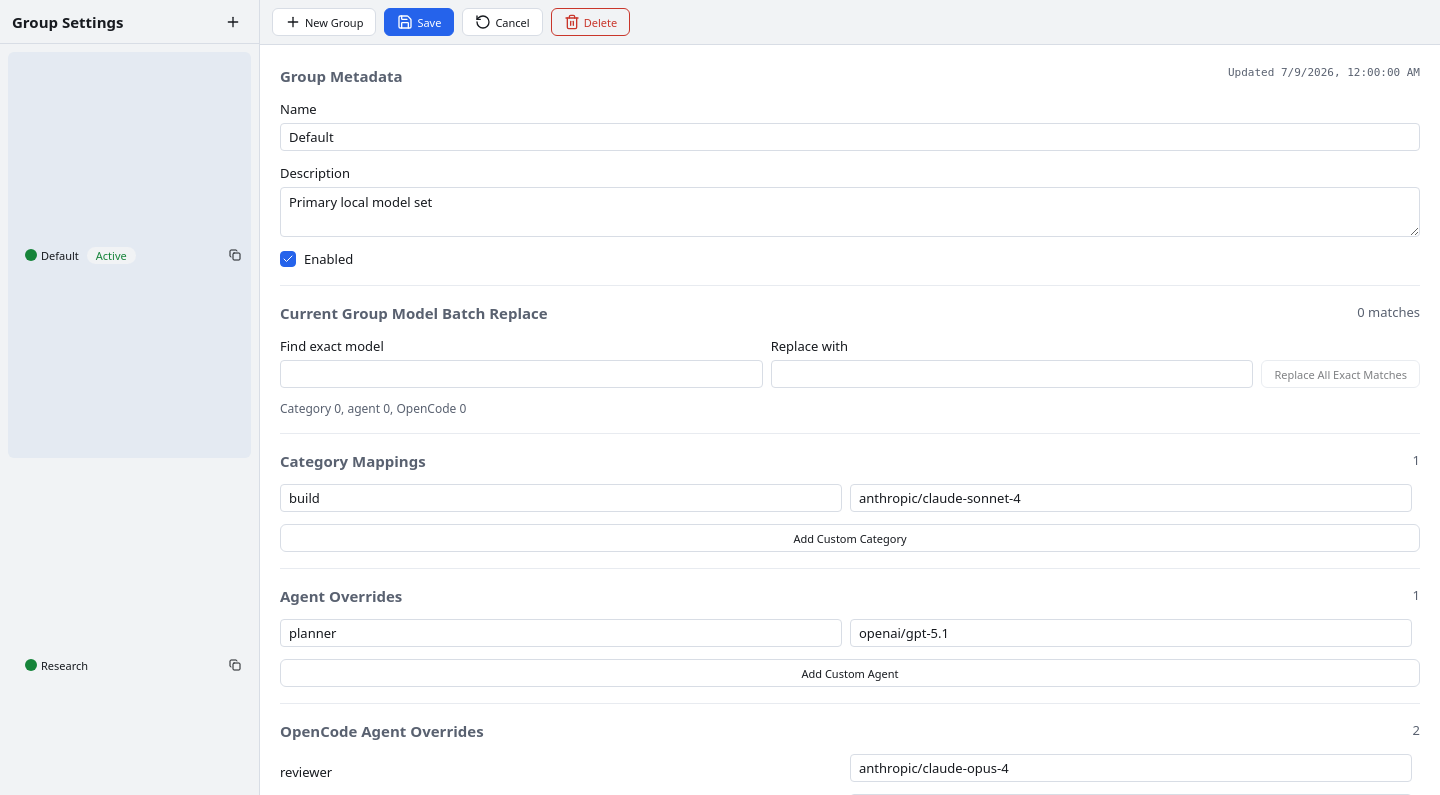
Test: SettingsShell › Given a new group When created Then it appears in the group list before persistence
Click the button named "New Group".
click(233, 22)  # box [219, 8, 247, 36]
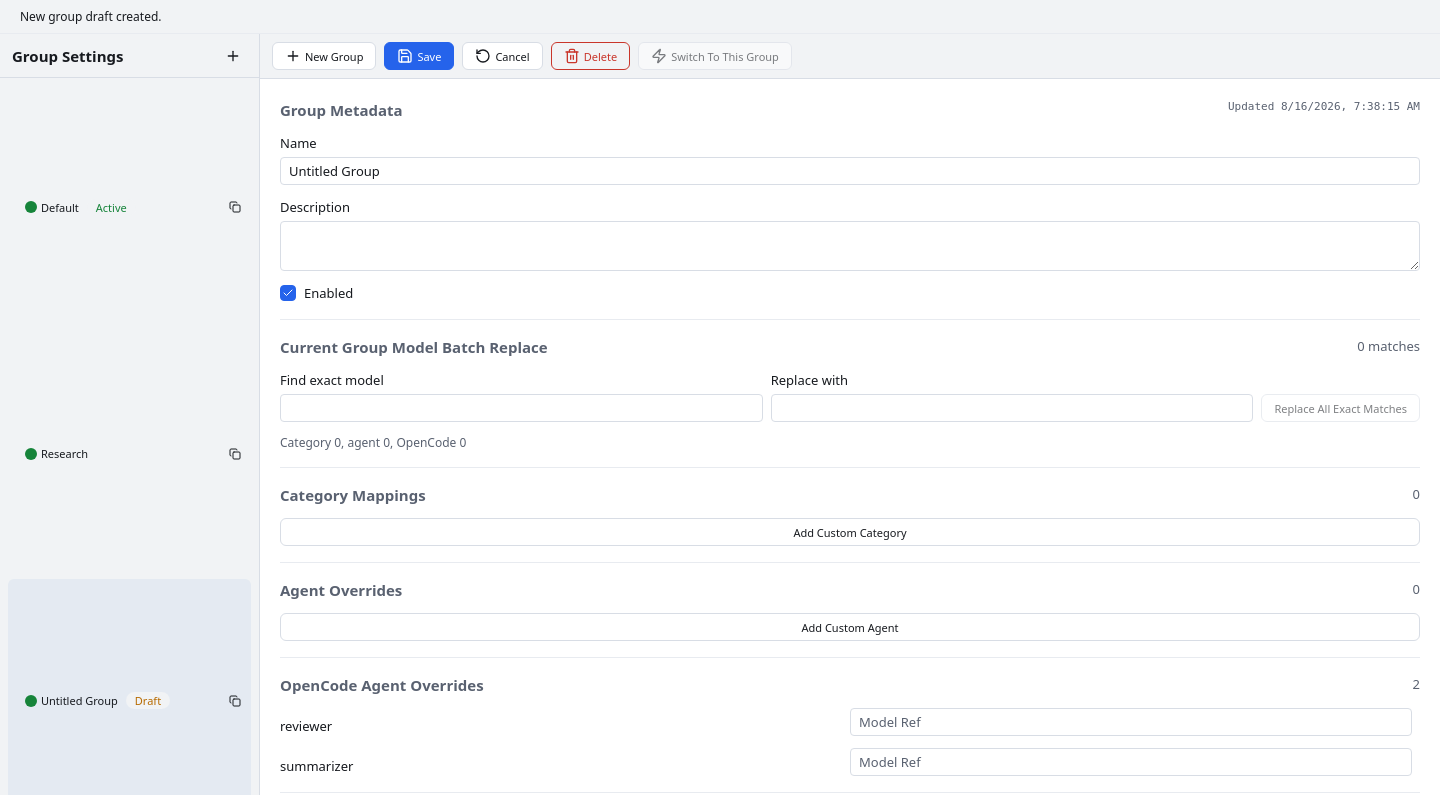
Check: the button "Switch To This Group" is disabled, box [638, 42, 792, 70]
